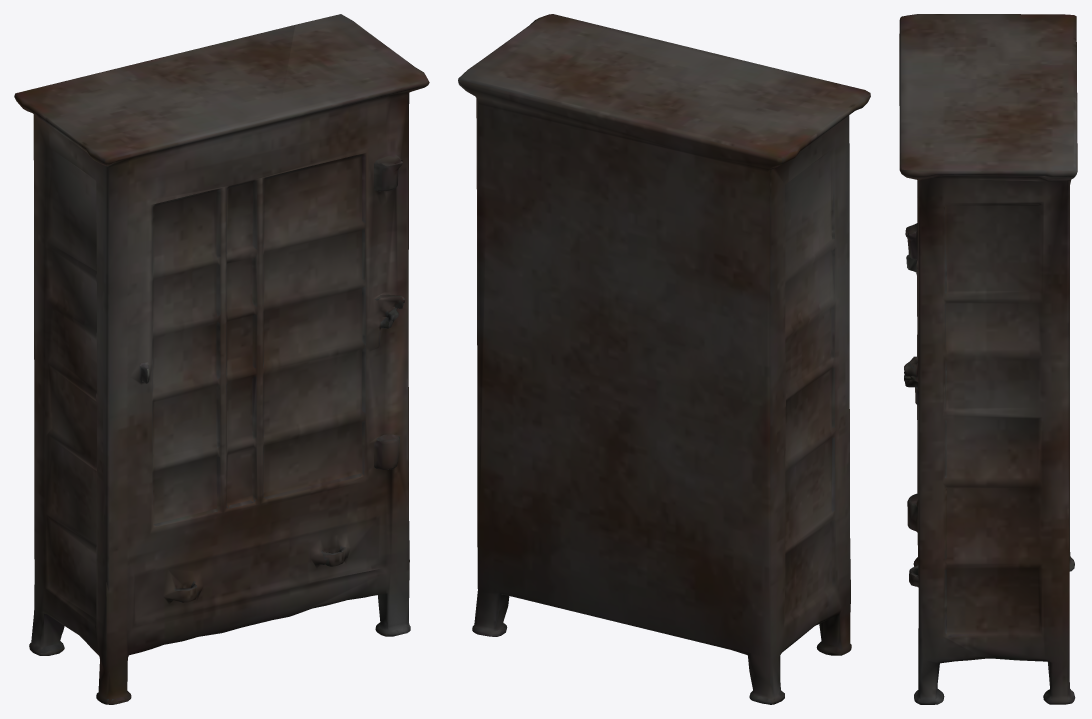
Rendered from rustic-iron-medicine-cabinet-v001.glb.
The picture shows the model from 3 angles, left to right: view 1: azimuth 30°, elevation 25°; view 2: azimuth 150°, elevation 25°; view 3: azimuth 270°, elevation 25°; orthographic projection. The views are drawn at different scales.
Visible parts, largest first — view 1: rustic-iron-medicine-cabinet; view 2: rustic-iron-medicine-cabinet; view 3: rustic-iron-medicine-cabinet.
Part boxes in pixels (left/top/right/bottom): rustic-iron-medicine-cabinet: left=14, top=14, right=429, bottom=704; rustic-iron-medicine-cabinet: left=458, top=14, right=870, bottom=704; rustic-iron-medicine-cabinet: left=899, top=14, right=1077, bottom=704.
Size of the model in its own units: 1.21 by 1.94 by 0.5786.
1 material, 1 textured.
